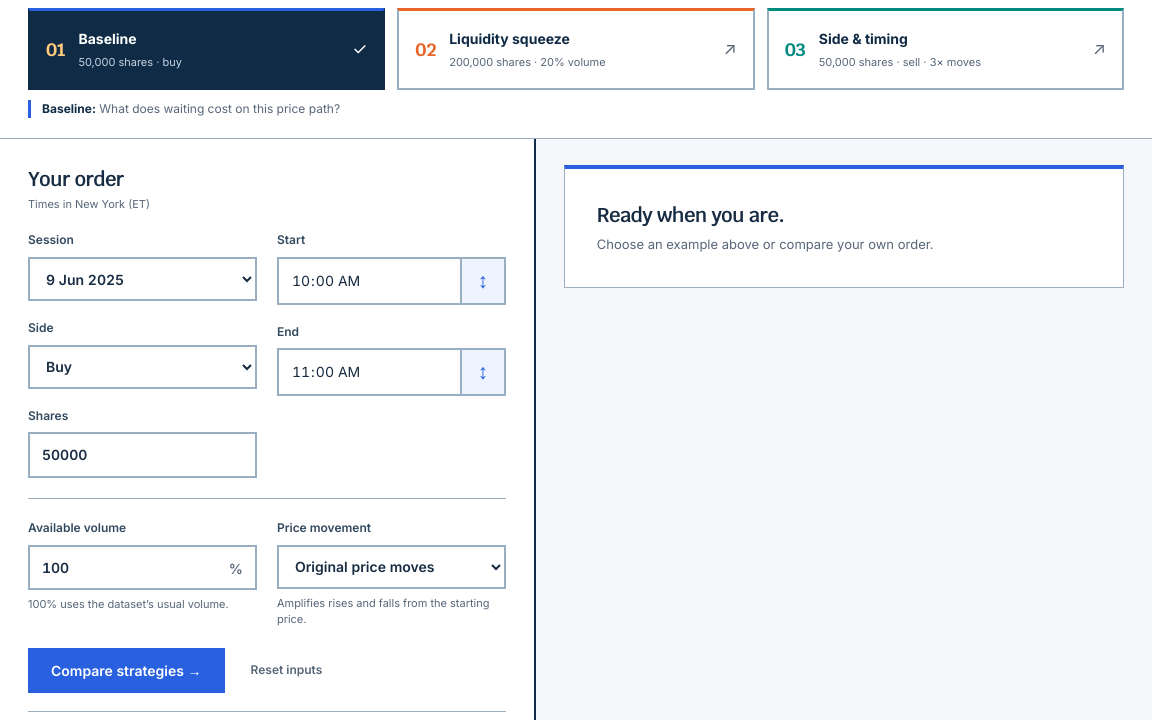
Test: blocks reversed time windows without making a simulation request
This screenshot has width=1152, height=720.
(page scrolled)
Expected: the button "Compare strategies →" is enabled, [28,648,224,693]
Replace the text in the time field labelled "End" with "09:45": coordinates (368, 372) [277,348,460,396]
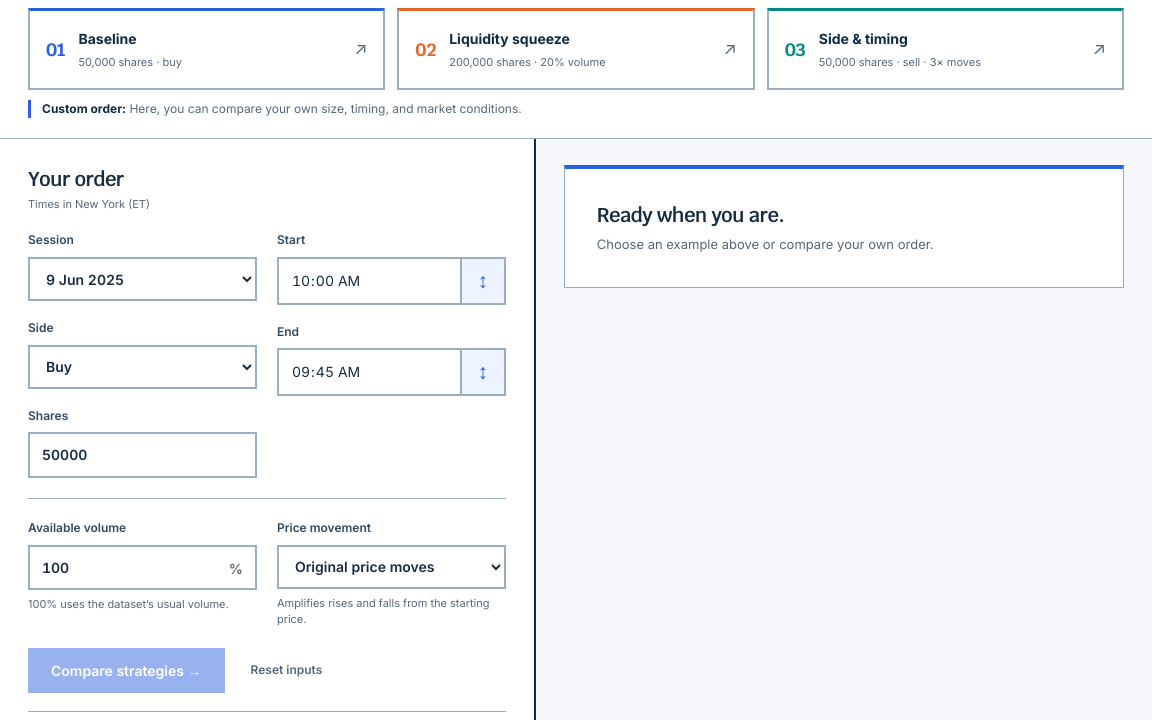
Result: the button "Compare strategies →" is disabled at [28,648,224,693]
